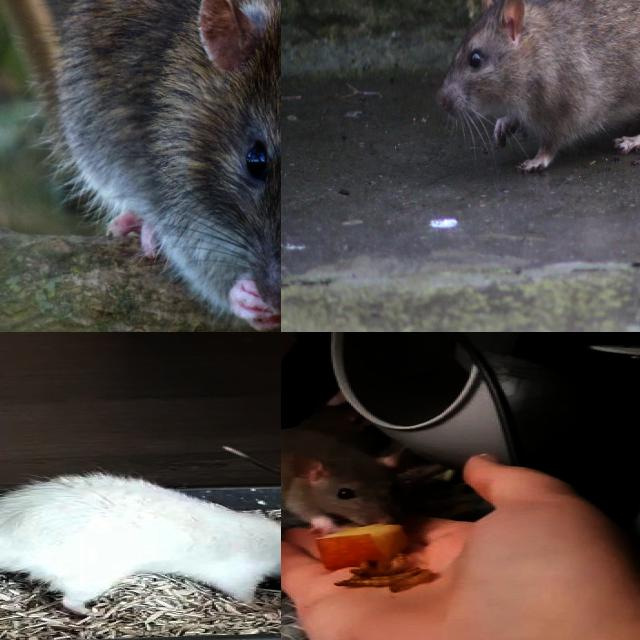rat: (67, 0, 281, 328), (0, 476, 281, 609), (438, 0, 640, 177), (281, 428, 416, 534)
